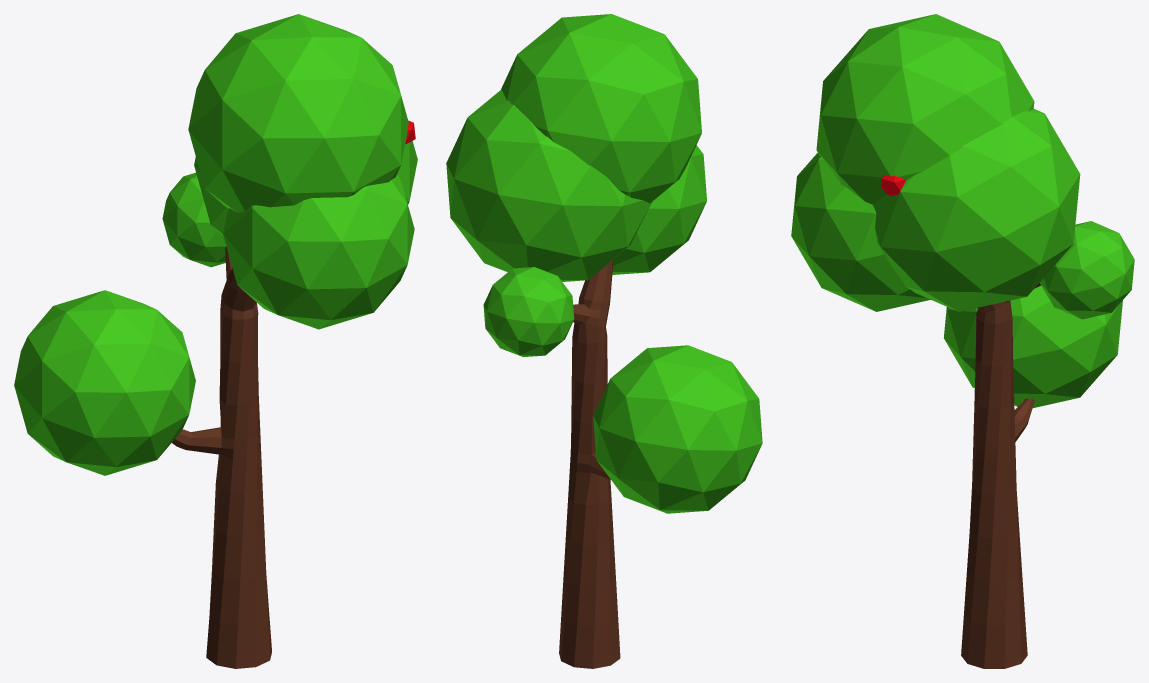
The model's file is tree1.fbx.
3 renders of one model, left to right at view 1: azimuth 30°, elevation 25°; view 2: azimuth 150°, elevation 25°; view 3: azimuth 270°, elevation 25°, orthographic. The views are drawn at different scales.
Parts seen in each view (by area): view 1: Cylinder; view 2: Cylinder; view 3: Cylinder.
Boxes of the visible parts, bbox=[...] form: Cylinder: bbox=[14, 14, 417, 668]; Cylinder: bbox=[446, 14, 762, 668]; Cylinder: bbox=[791, 14, 1134, 668].
Size of the model in its own units: 1167 by 2120 by 1030.
